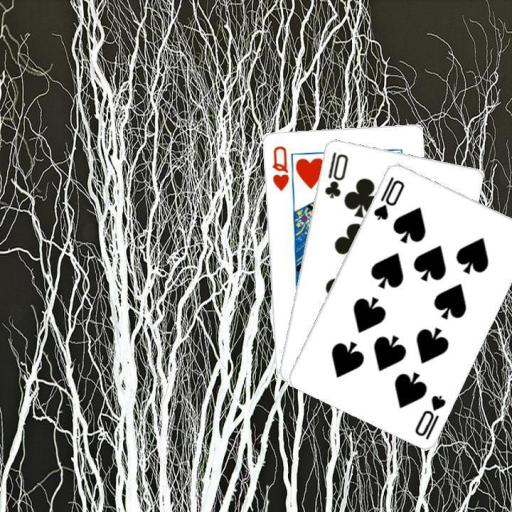card-corner: (411, 391, 447, 441), (370, 173, 406, 221), (321, 148, 349, 200), (269, 142, 290, 192)
